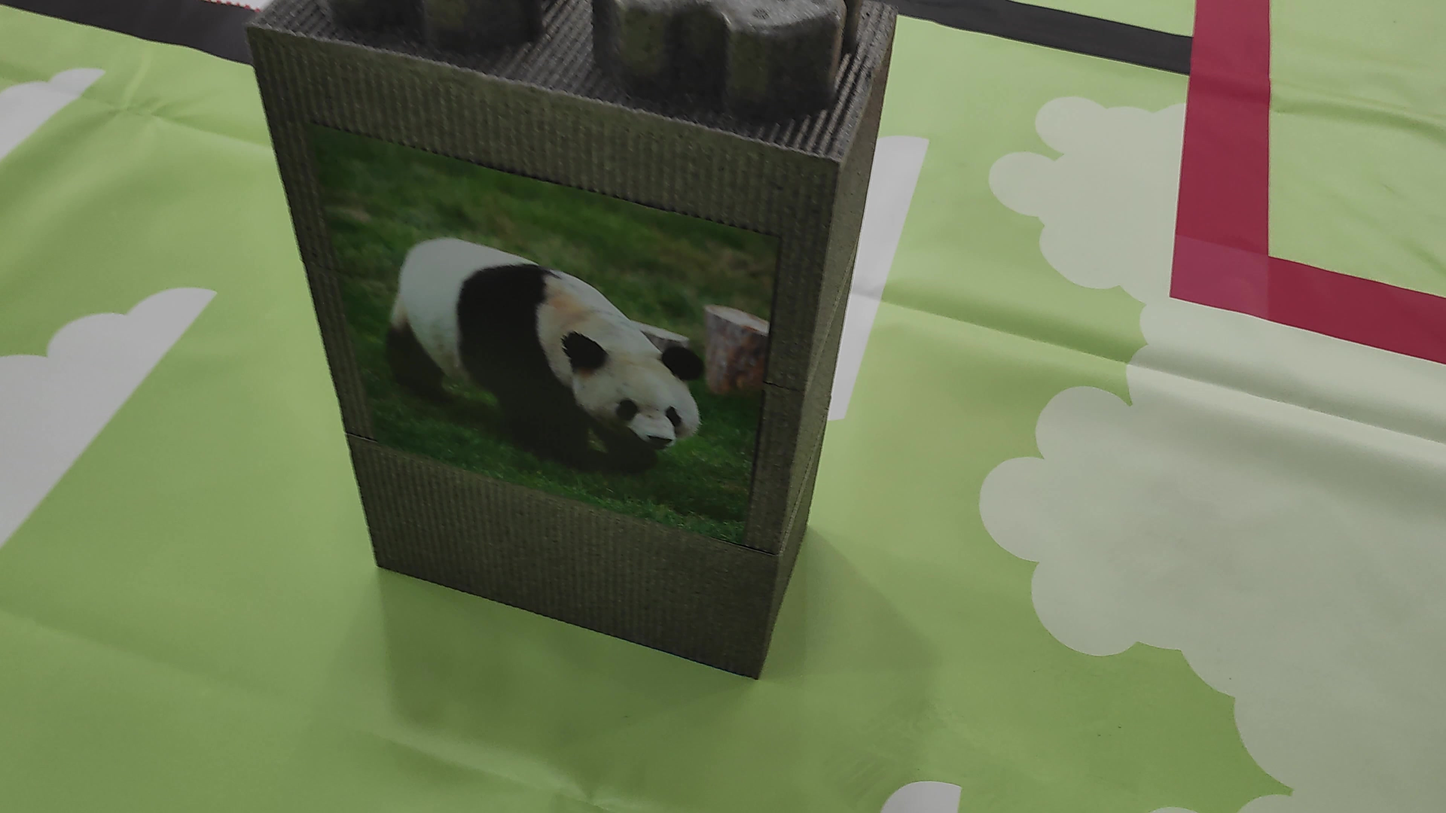panda: (360, 210, 727, 516)
